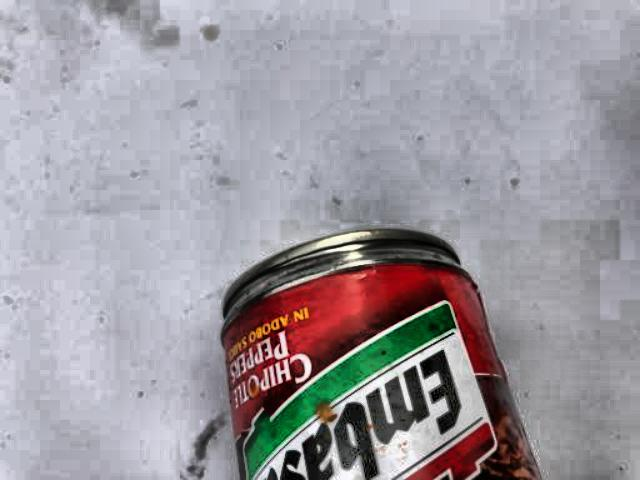Almennt: (162, 180, 557, 480)
